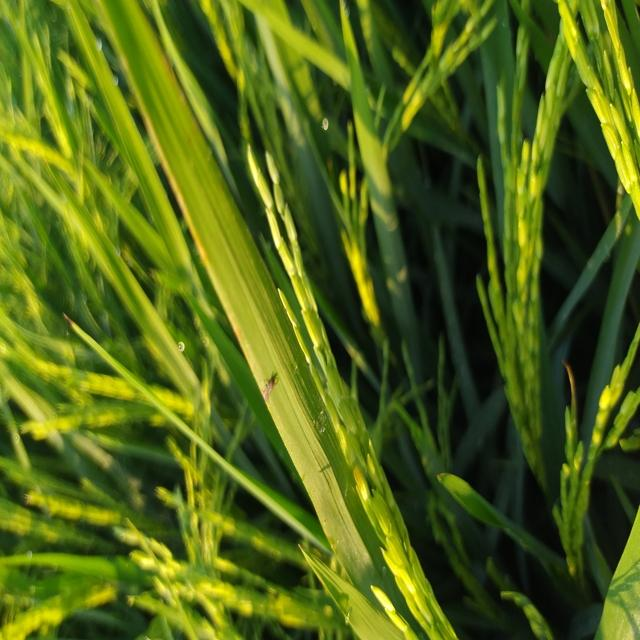brown plant hopper: (260, 367, 282, 416)
